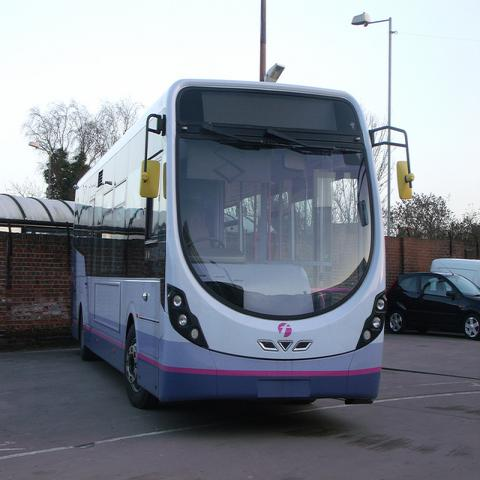bus: (69, 65, 410, 411)
car: (385, 256, 480, 341), (430, 258, 480, 286)
